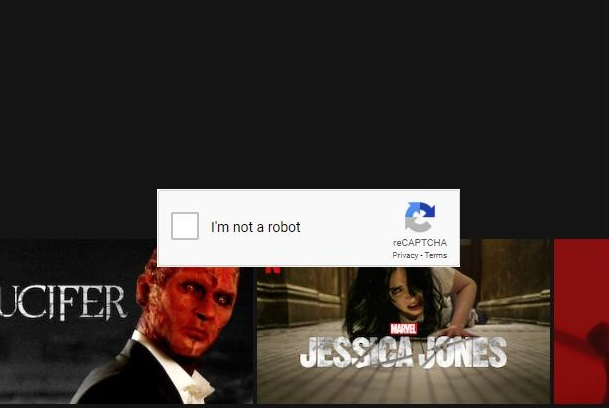captcha: (171, 212, 306, 240)
